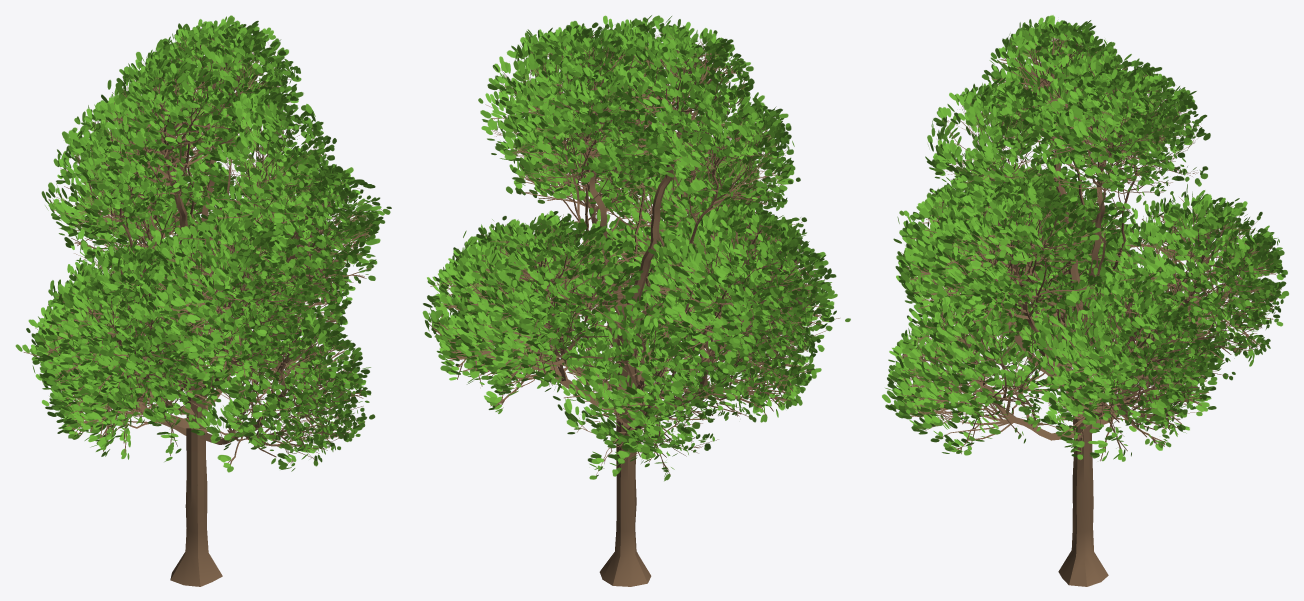
The model's file is stylized_tree.glb.
The picture shows the model from 3 angles, left to right: view 1: azimuth 30°, elevation 25°; view 2: azimuth 150°, elevation 25°; view 3: azimuth 270°, elevation 25°; orthographic projection. The views are drawn at different scales.
Visible parts, largest first — view 1: oak 01_leafes_Mat.001_0, oak 01.001_trunk_Mat.001_0; view 2: oak 01_leafes_Mat.001_0, oak 01.001_trunk_Mat.001_0; view 3: oak 01_leafes_Mat.001_0, oak 01.001_trunk_Mat.001_0.
Boxes of the visible parts, x1=… form: oak 01_leafes_Mat.001_0: x1=15, y1=15, x2=391, y2=472; oak 01.001_trunk_Mat.001_0: x1=23, y1=32, x2=382, y2=586; oak 01_leafes_Mat.001_0: x1=422, y1=15, x2=850, y2=481; oak 01.001_trunk_Mat.001_0: x1=429, y1=28, x2=839, y2=586; oak 01_leafes_Mat.001_0: x1=882, y1=15, x2=1288, y2=461; oak 01.001_trunk_Mat.001_0: x1=890, y1=32, x2=1281, y2=586.
Size of the model in its own units: 0.3679 by 0.564 by 0.389.
Materials: 2 (1 with a texture image).
